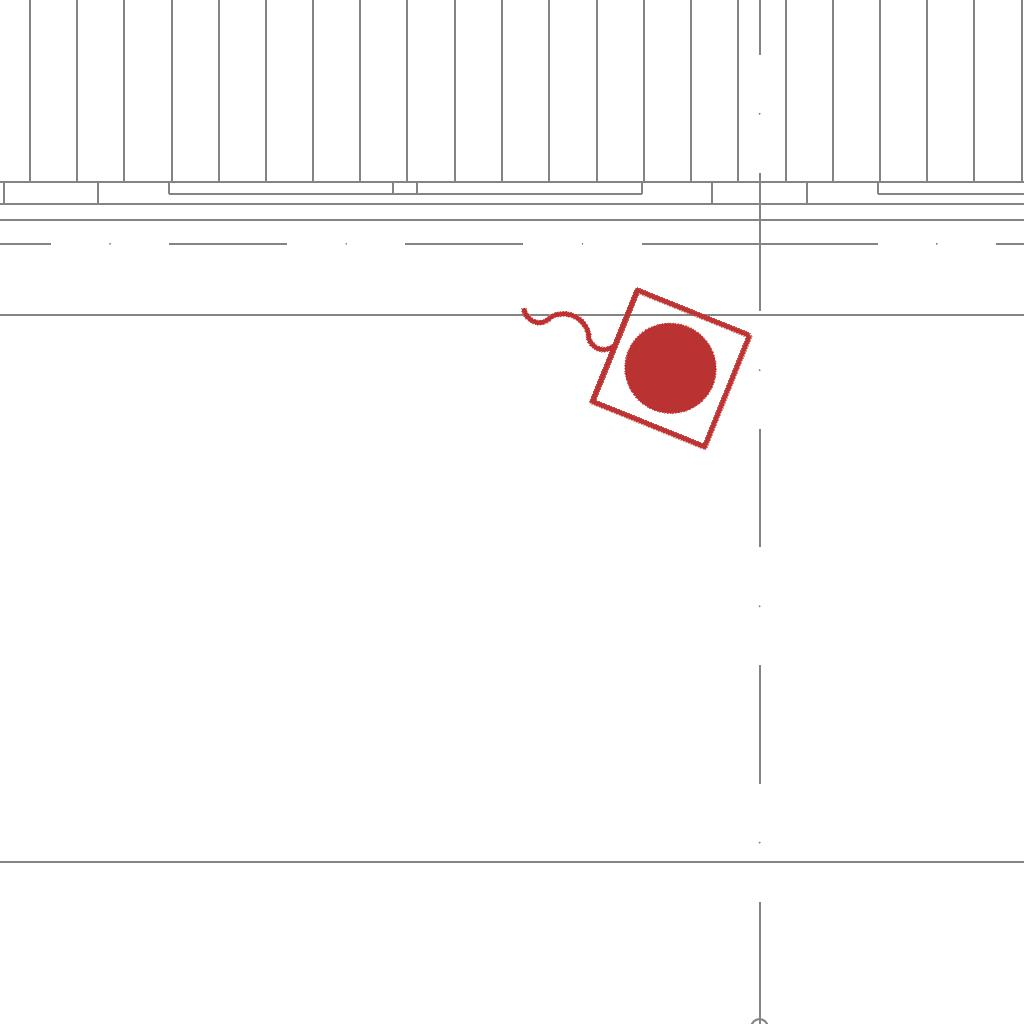Zugtaster: (484, 235, 766, 461)
